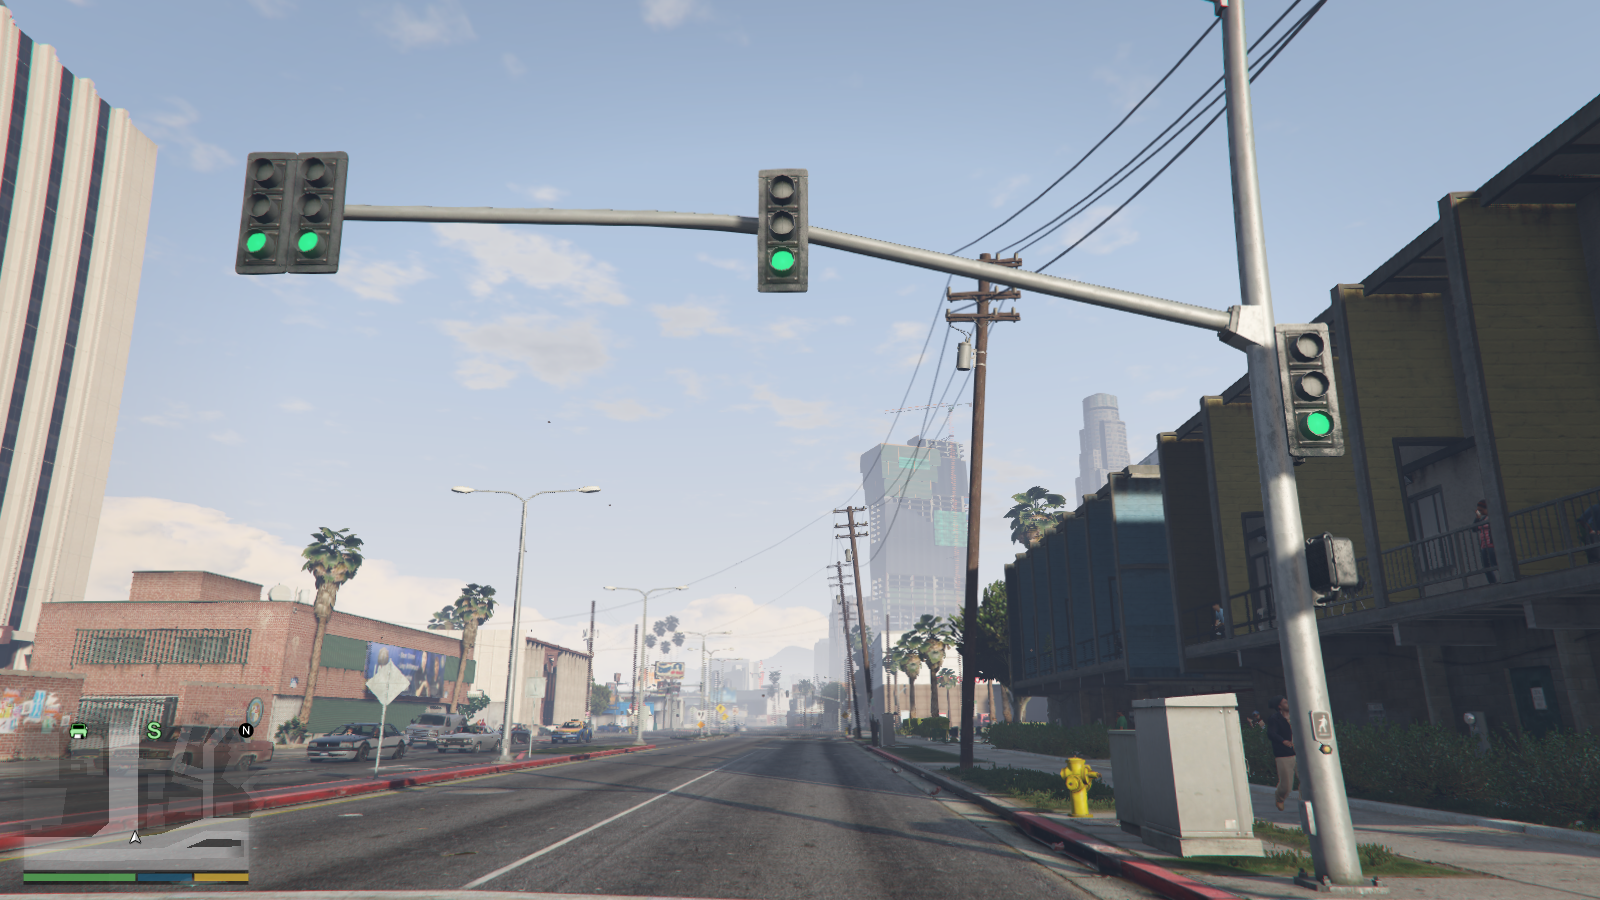green: (236, 151, 344, 274), (1265, 323, 1348, 460), (759, 167, 808, 292)
